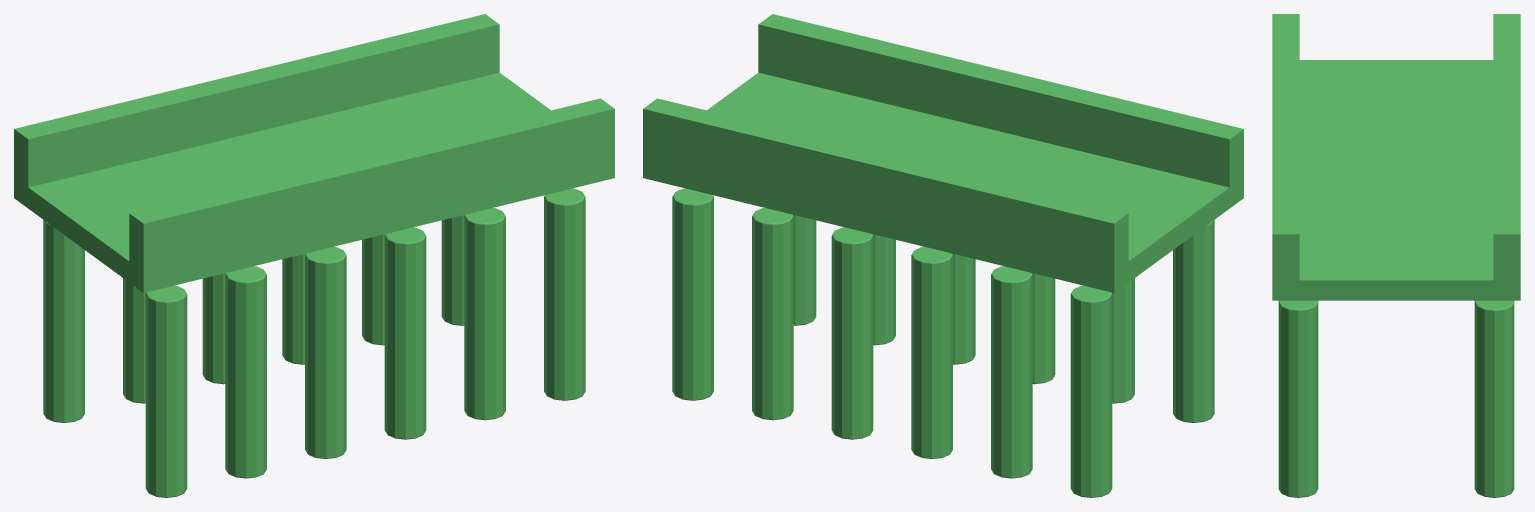
The model's file is market_colonnade_walkable_collision.glb.
3 views of the same model, side by side, from view 1: azimuth 30°, elevation 25°; view 2: azimuth 150°, elevation 25°; view 3: azimuth 270°, elevation 25° (orthographic). The views are drawn at different scales.
Visible parts, largest first — view 1: market_colonnade_walkable-col-roof, market_colonnade_walkable-col-parapet--1.78, market_colonnade_walkable-col-parapet-1.78, market_colonnade_walkable-col-column-0-0, market_colonnade_walkable-col-column-0-3, market_colonnade_walkable-col-column-0-1, market_colonnade_walkable-col-column-0-2, market_colonnade_walkable-col-column-0-5, market_colonnade_walkable-col-column-0-4, market_colonnade_walkable-col-column-1-0, market_colonnade_walkable-col-column-1-1, market_colonnade_walkable-col-column-1-2 (+3 smaller); view 2: market_colonnade_walkable-col-roof, market_colonnade_walkable-col-parapet-1.78, market_colonnade_walkable-col-parapet--1.78, market_colonnade_walkable-col-column-1-0, market_colonnade_walkable-col-column-1-3, market_colonnade_walkable-col-column-1-1, market_colonnade_walkable-col-column-1-2, market_colonnade_walkable-col-column-1-5, market_colonnade_walkable-col-column-1-4, market_colonnade_walkable-col-column-0-0, market_colonnade_walkable-col-column-0-1, market_colonnade_walkable-col-column-0-2 (+3 smaller); view 3: market_colonnade_walkable-col-roof, market_colonnade_walkable-col-column-0-5, market_colonnade_walkable-col-column-1-5, market_colonnade_walkable-col-parapet--1.78, market_colonnade_walkable-col-parapet-1.78.
Part boxes in pixels (bbox=[...]): market_colonnade_walkable-col-roof: bbox=[14, 72, 614, 292]; market_colonnade_walkable-col-parapet--1.78: bbox=[129, 98, 614, 278]; market_colonnade_walkable-col-parapet-1.78: bbox=[14, 14, 499, 193]; market_colonnade_walkable-col-column-0-0: bbox=[145, 285, 187, 497]; market_colonnade_walkable-col-column-0-3: bbox=[384, 227, 426, 439]; market_colonnade_walkable-col-column-0-1: bbox=[225, 266, 266, 478]; market_colonnade_walkable-col-column-0-2: bbox=[305, 246, 346, 458]; market_colonnade_walkable-col-column-0-5: bbox=[544, 188, 585, 400]; market_colonnade_walkable-col-column-0-4: bbox=[464, 208, 505, 420]; market_colonnade_walkable-col-column-1-0: bbox=[43, 220, 84, 422]; market_colonnade_walkable-col-column-1-1: bbox=[123, 278, 146, 403]; market_colonnade_walkable-col-column-1-2: bbox=[202, 273, 225, 384]; market_colonnade_walkable-col-roof: bbox=[643, 72, 1243, 292]; market_colonnade_walkable-col-parapet-1.78: bbox=[643, 98, 1128, 278]; market_colonnade_walkable-col-parapet--1.78: bbox=[758, 14, 1243, 193]; market_colonnade_walkable-col-column-1-0: bbox=[1070, 285, 1112, 497]; market_colonnade_walkable-col-column-1-3: bbox=[831, 227, 873, 439]; market_colonnade_walkable-col-column-1-1: bbox=[991, 266, 1032, 478]; market_colonnade_walkable-col-column-1-2: bbox=[911, 246, 952, 458]; market_colonnade_walkable-col-column-1-5: bbox=[672, 188, 713, 400]; market_colonnade_walkable-col-column-1-4: bbox=[752, 208, 793, 420]; market_colonnade_walkable-col-column-0-0: bbox=[1173, 220, 1214, 422]; market_colonnade_walkable-col-column-0-1: bbox=[1111, 278, 1134, 403]; market_colonnade_walkable-col-column-0-2: bbox=[1032, 273, 1055, 384]; market_colonnade_walkable-col-roof: bbox=[1272, 60, 1520, 300]; market_colonnade_walkable-col-column-0-5: bbox=[1278, 300, 1318, 497]; market_colonnade_walkable-col-column-1-5: bbox=[1474, 300, 1514, 497]; market_colonnade_walkable-col-parapet--1.78: bbox=[1272, 14, 1299, 287]; market_colonnade_walkable-col-parapet-1.78: bbox=[1493, 14, 1520, 287].
Size of the model in its own units: 8.4 by 4.85 by 4.
